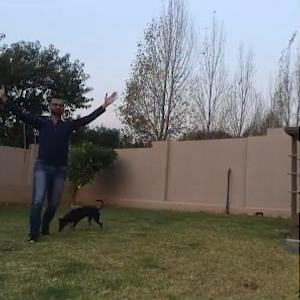takeoff: (7, 88, 122, 248)
